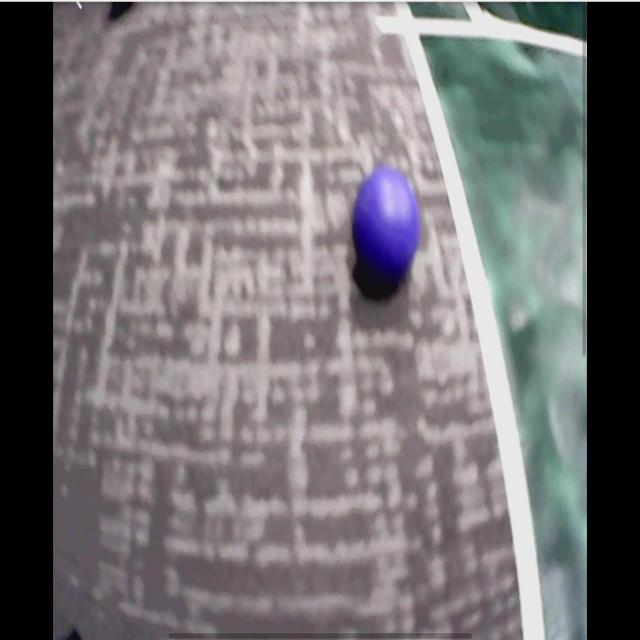ball: (355, 168, 418, 278)
